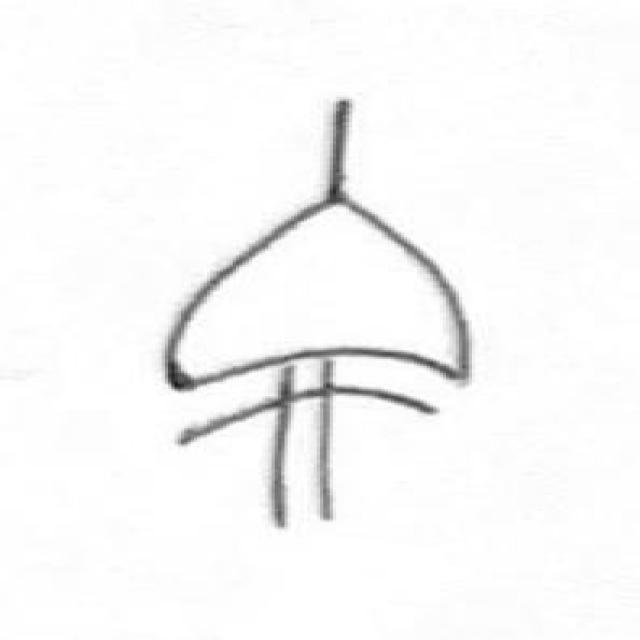XOR: (99, 178, 547, 445)
